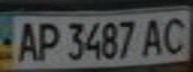3: (63, 19, 84, 62)
4: (81, 18, 103, 61)
7: (115, 17, 142, 60)
8: (100, 18, 121, 61)
A: (9, 18, 42, 63), (139, 15, 169, 57)
C: (157, 14, 193, 56)
P: (33, 18, 60, 62)
